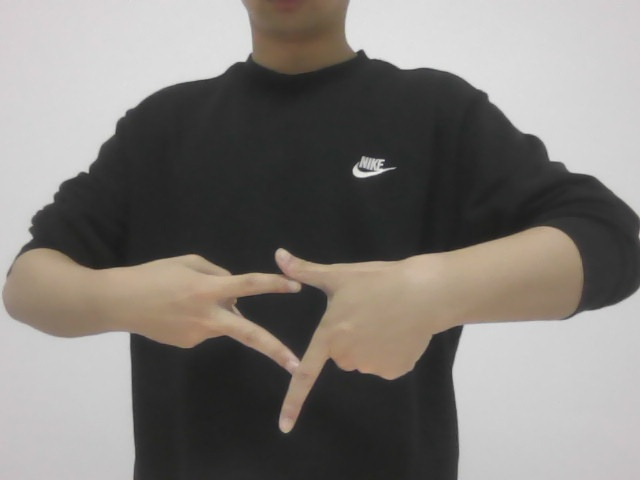introduce: (136, 231, 431, 445)
